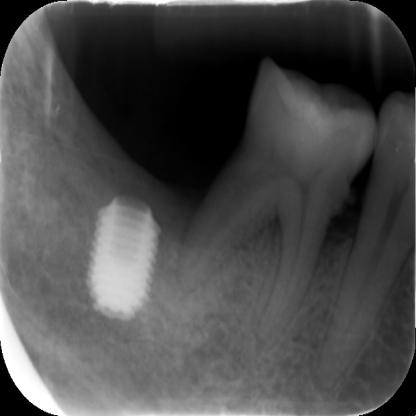Bicon: (92, 192, 160, 322)
